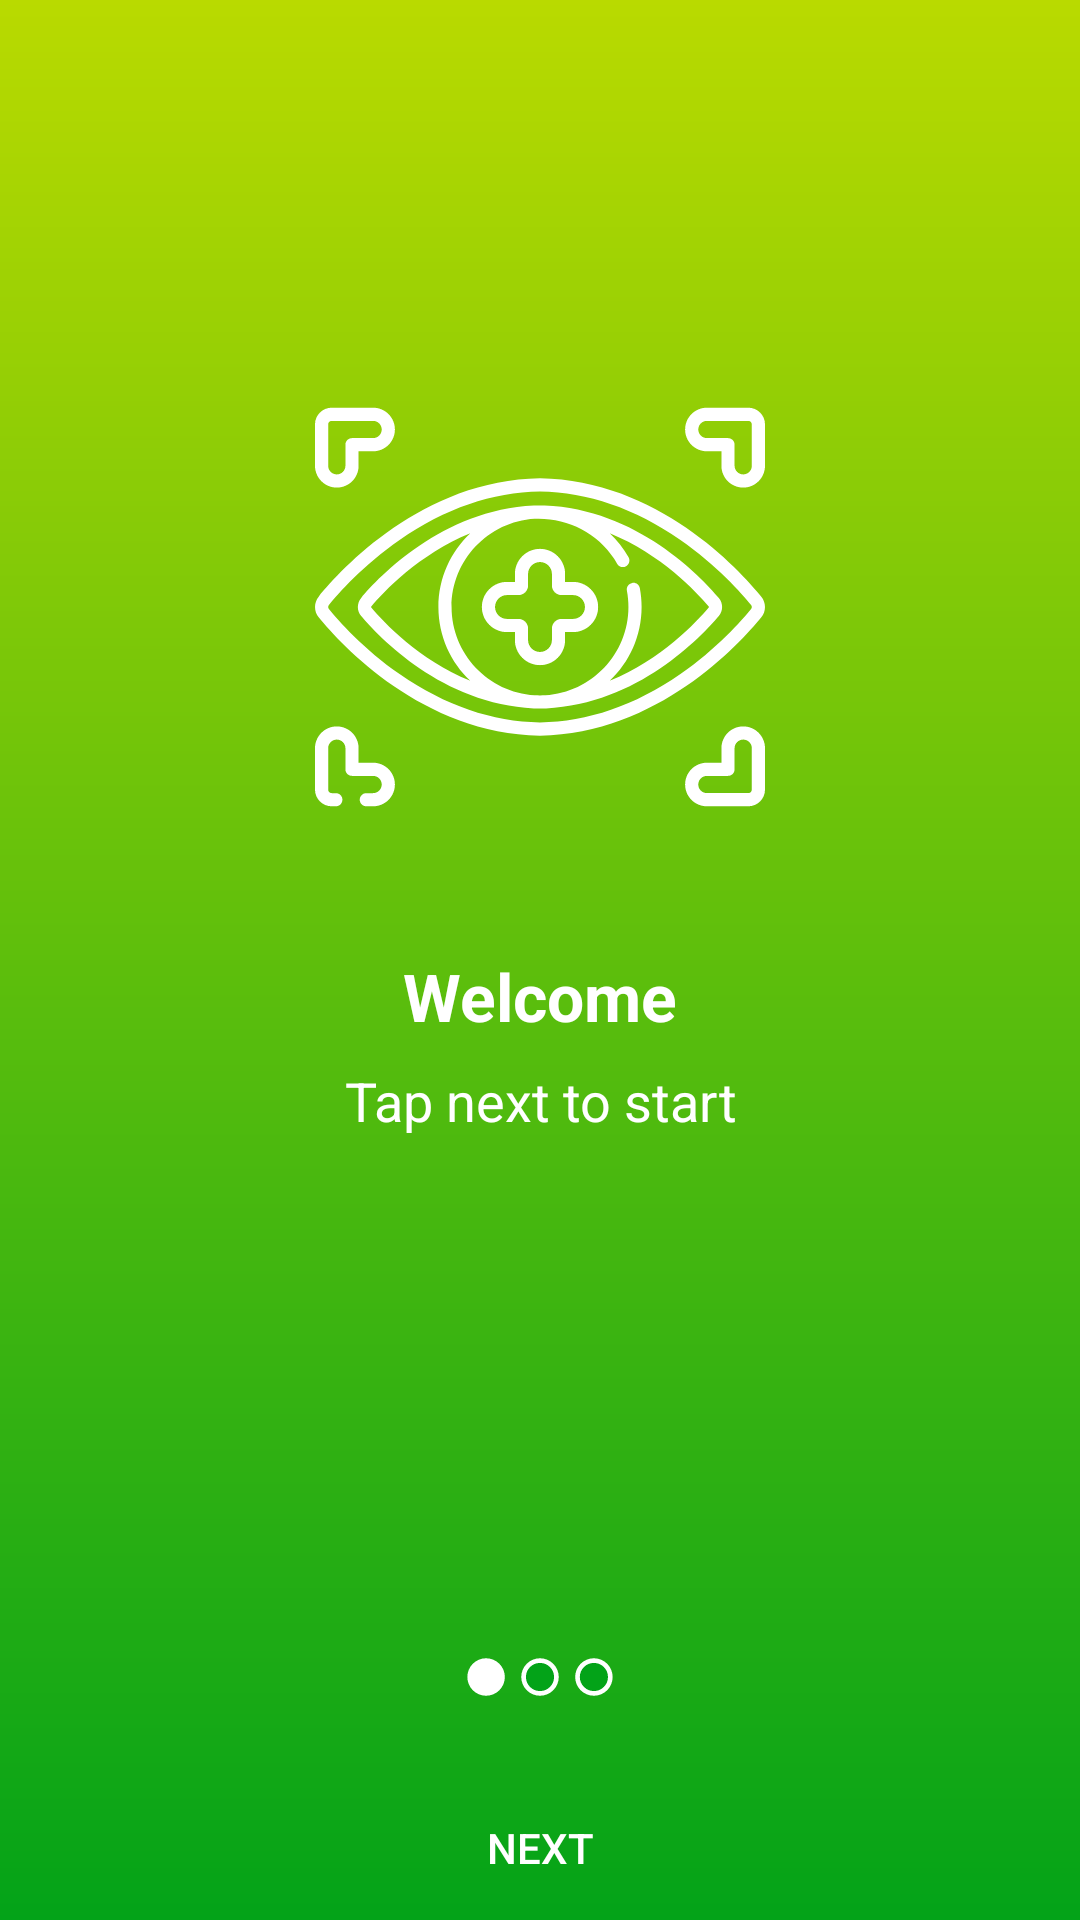

Icons on this 1080 × 1920 Android screen, each with its box as [left=x1, top=y1, right=x2, bottom=y2]:
dot: [left=467, top=1658, right=613, bottom=1696]
